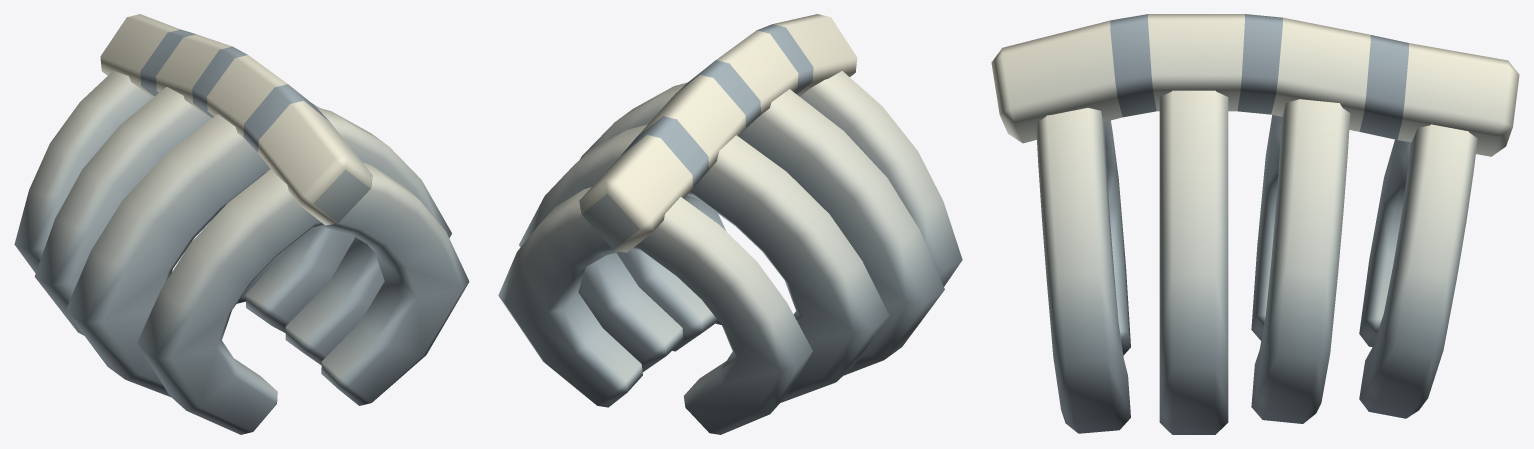
Rendered from cow_ribcage.fbx.
3 renders of one model, left to right at view 1: azimuth 30°, elevation 25°; view 2: azimuth 150°, elevation 25°; view 3: azimuth 270°, elevation 25°, orthographic. The views are drawn at different scales.
Visible parts, largest first — view 1: cow_ribcage; view 2: cow_ribcage; view 3: cow_ribcage.
Boxes of the visible parts, box(x1,y1,x2,y2) form: cow_ribcage: box(14, 14, 469, 434); cow_ribcage: box(498, 14, 962, 434); cow_ribcage: box(991, 14, 1519, 434).
Size of the model in its own units: 122 by 98.7 by 125.
